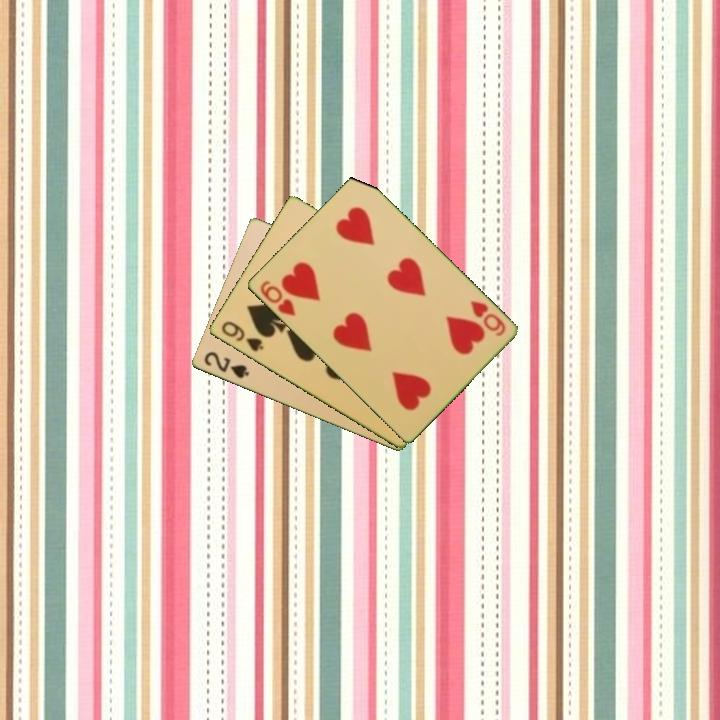2s: (200, 348, 252, 382)
6h: (256, 277, 298, 319), (466, 297, 508, 339)
9s: (217, 317, 266, 355)
